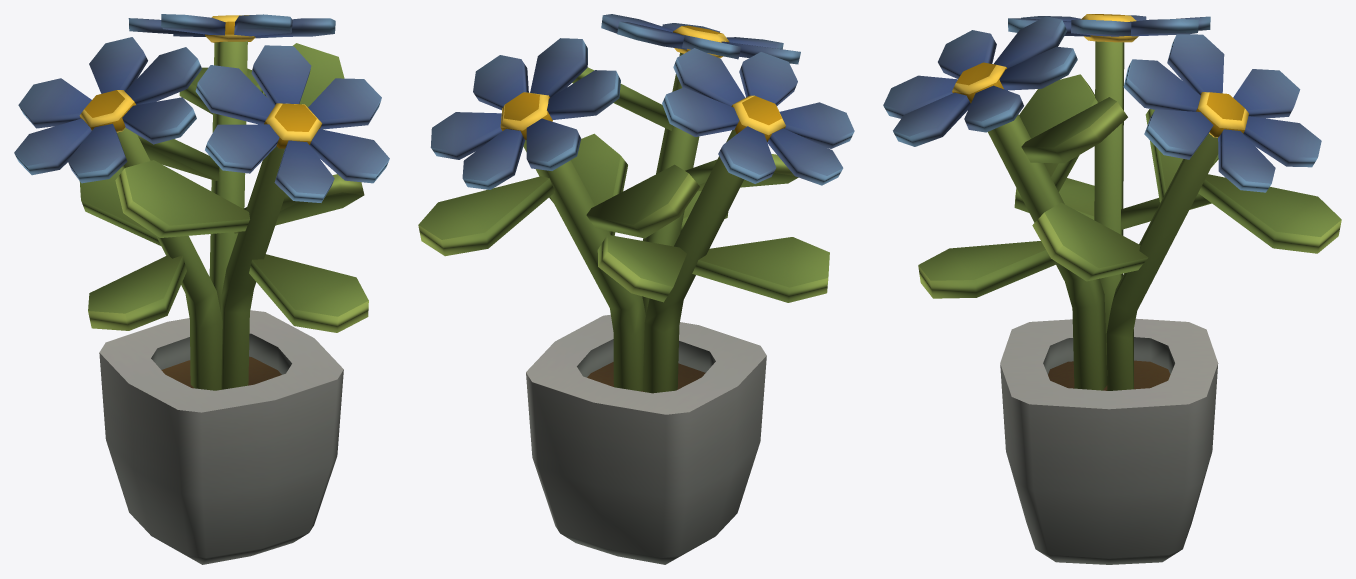
The model's file is flower_bunch_blue_pot.fbx.
3 views of the same model, side by side, from view 1: azimuth 30°, elevation 25°; view 2: azimuth 150°, elevation 25°; view 3: azimuth 270°, elevation 25° (orthographic). The views are drawn at different scales.
Parts seen in each view (by area): view 1: flower_bunch_blue_pot; view 2: flower_bunch_blue_pot; view 3: flower_bunch_blue_pot.
Boxes of the visible parts, x1,y1,x2,y2 form: flower_bunch_blue_pot: (14,14,389,564); flower_bunch_blue_pot: (418,14,854,564); flower_bunch_blue_pot: (883,14,1341,564).
Size of the model in its own units: 79.04 by 108 by 88.9.
